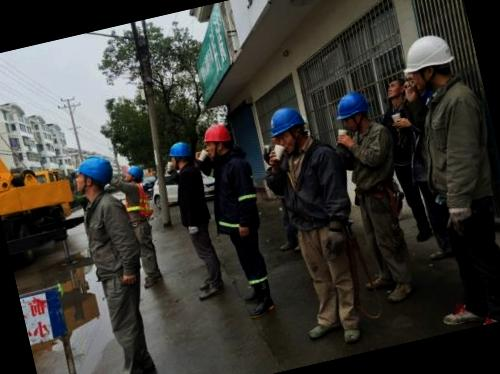no_helmet: (379, 72, 412, 106)
